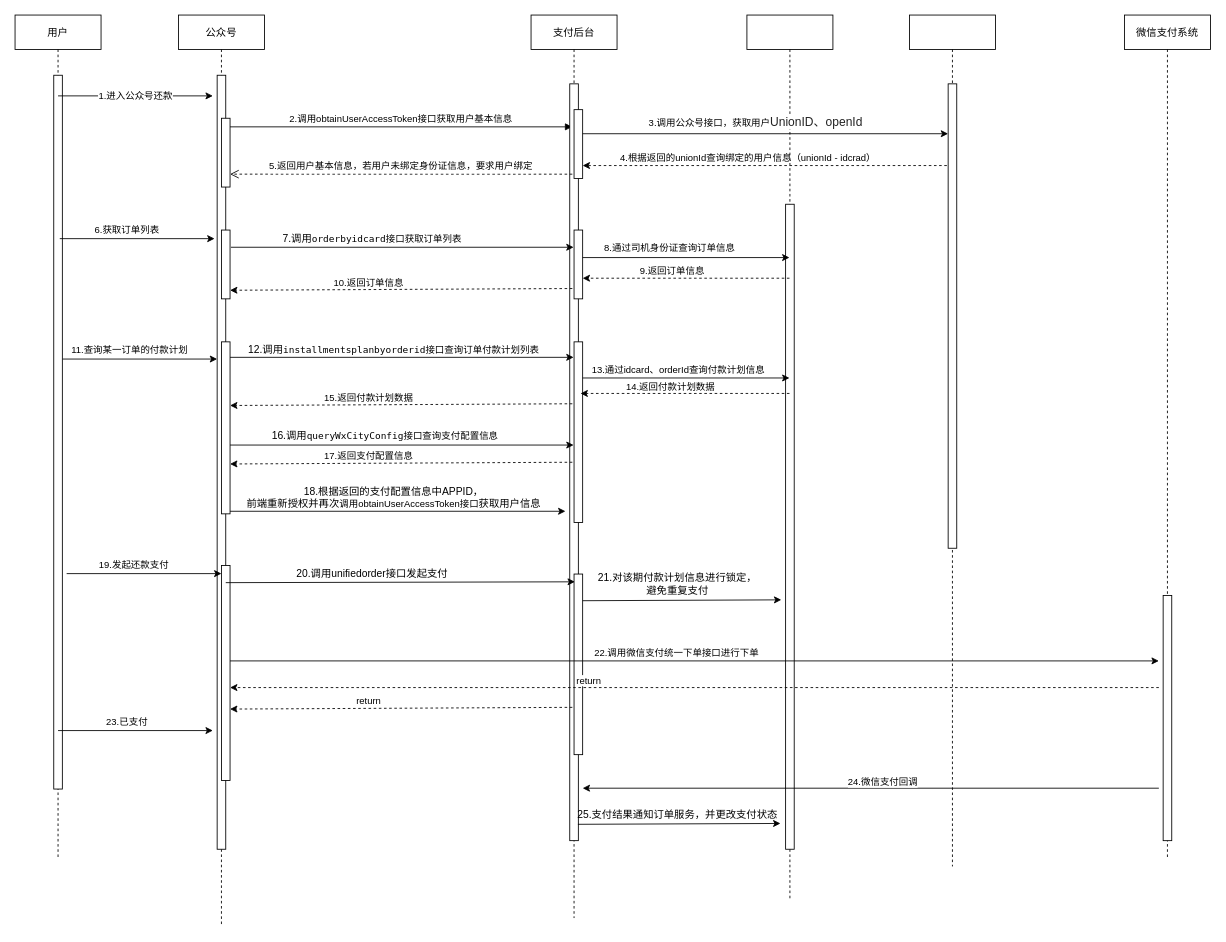
Some shapes in this 1226 by 942 pixel diagram are drawn without their labels. The box of each missing label's shape, as (x1, y1, x2, y2) in pixels:
OMS订单服务: (746, 14, 833, 901)
微信公众号: (909, 14, 995, 866)
